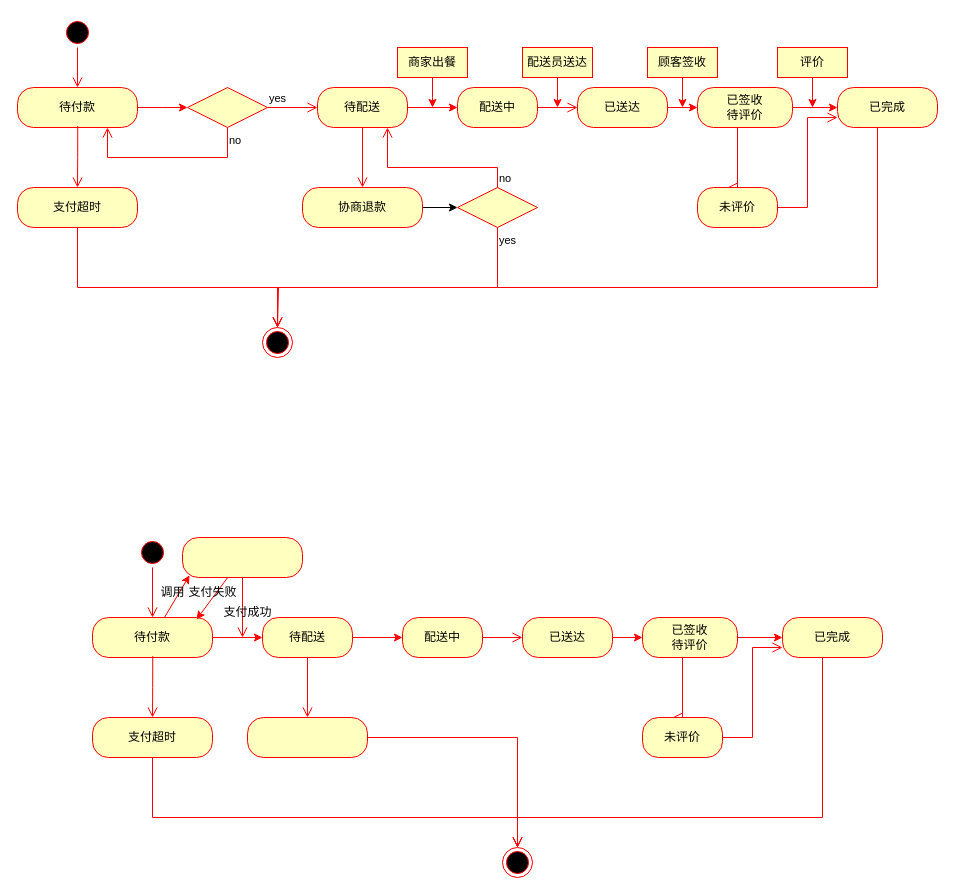
Some shapes in this 955 by 895 pixel diagram are drawn without their labels. Each missing label, with the centre of its shape:
"三方支付" belongs at (242,557).
"协商成功？" belongs at (497,207).
"协商退款中" belongs at (307,737).
"支付成功？" belongs at (227,107).
